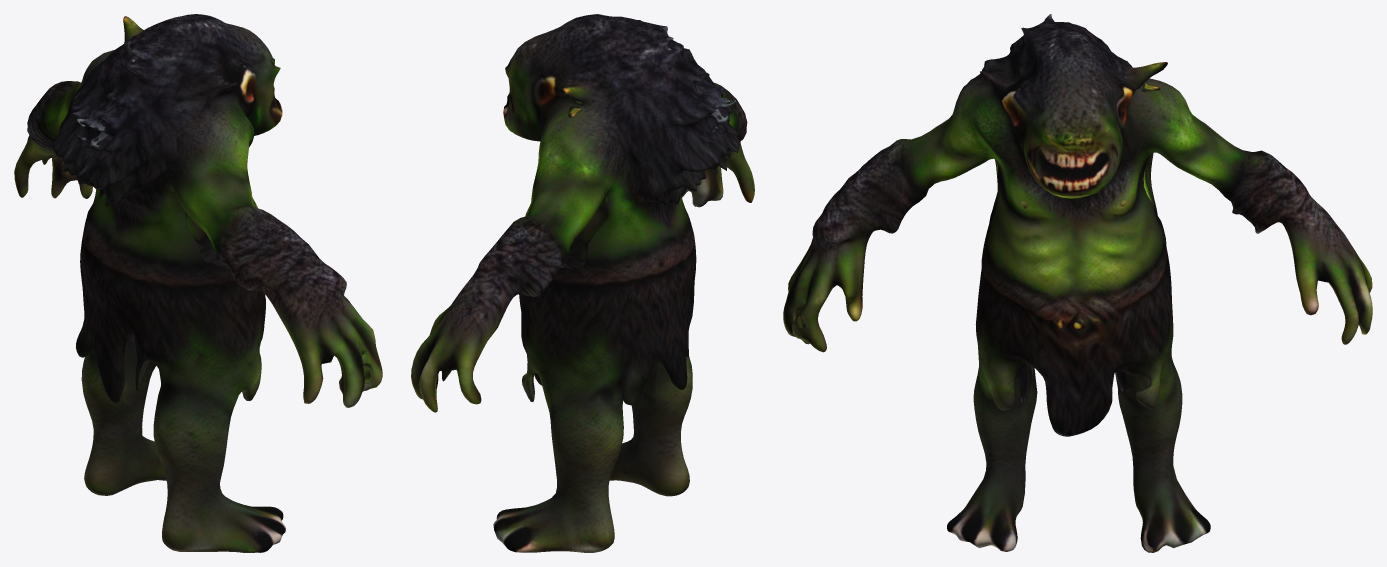
The model's file is troll.glb.
The picture shows the model from 3 angles, left to right: view 1: azimuth 30°, elevation 25°; view 2: azimuth 150°, elevation 25°; view 3: azimuth 270°, elevation 25°; orthographic projection.
Visible parts, largest first — view 1: mesh; view 2: mesh; view 3: mesh.
Part boxes in pixels (x1=…): mesh: x1=14, y1=14, x2=382, y2=552; mesh: x1=411, y1=14, x2=754, y2=552; mesh: x1=783, y1=14, x2=1372, y2=552.
Bounding box in the file's own units: 0.4138 × 0.9305 × 0.9988.
1 material, 1 textured.
